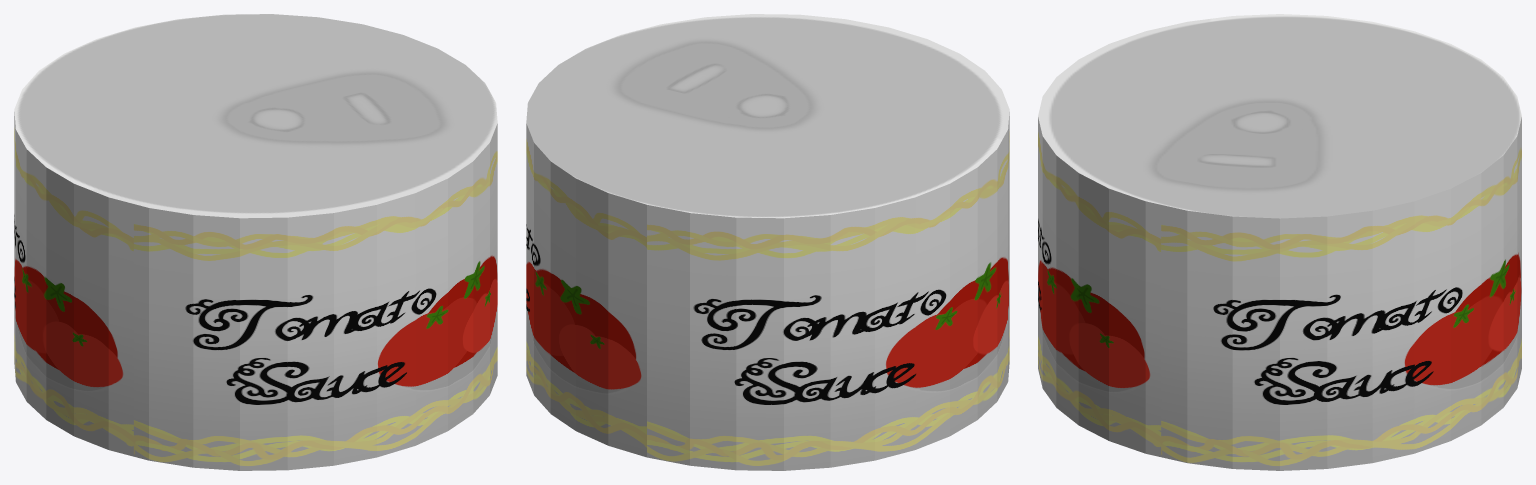
Rendered from sauce.fbx.
The picture shows the model from 3 angles, left to right: view 1: azimuth 30°, elevation 25°; view 2: azimuth 150°, elevation 25°; view 3: azimuth 270°, elevation 25°; orthographic projection.
Visible parts, largest first — view 1: Cylinder; view 2: Cylinder; view 3: Cylinder.
Boxes of the visible parts, x1,y1,x2,y2 form: Cylinder: (14,14,497,470); Cylinder: (526,14,1009,470); Cylinder: (1038,14,1521,470).
Size of the model in its own units: 200 by 115 by 200.
